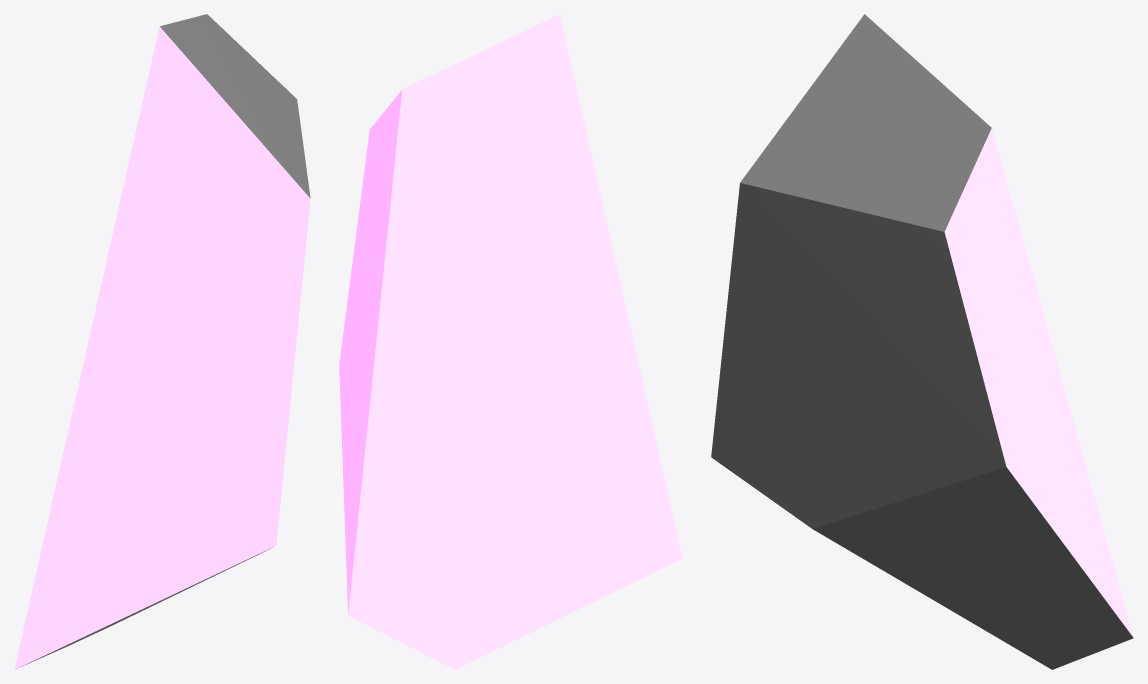
The model's file is Cone_after_006.fbx.
The picture shows the model from 3 angles, left to right: view 1: azimuth 30°, elevation 25°; view 2: azimuth 150°, elevation 25°; view 3: azimuth 270°, elevation 25°; orthographic projection. The views are drawn at different scales.
Visible parts, largest first — view 1: Cone_after_006; view 2: Cone_after_006; view 3: Cone_after_006.
Boxes of the visible parts, left/top/right/bottom form: Cone_after_006: left=14, top=14, right=310, bottom=669; Cone_after_006: left=339, top=14, right=682, bottom=669; Cone_after_006: left=711, top=14, right=1133, bottom=669.
Bounding box in the file's own units: 11.64 × 23.72 × 14.11.
